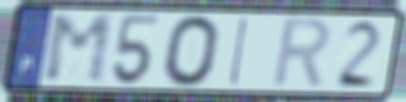2: (329, 20, 387, 89)
5: (109, 12, 162, 87)
I: (226, 15, 252, 89)
M: (42, 12, 116, 86)
O: (161, 13, 223, 90)
R: (267, 15, 334, 92)
